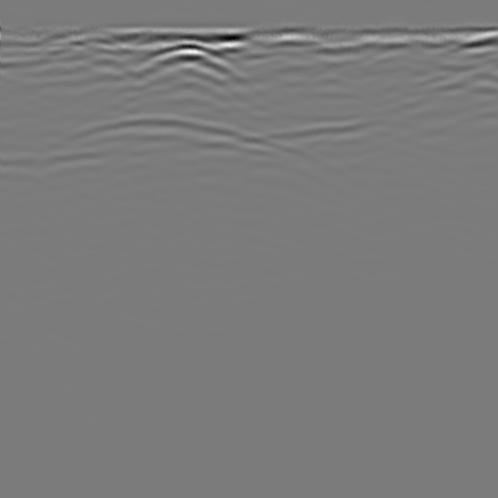hyperbola: (17, 101, 318, 220)
